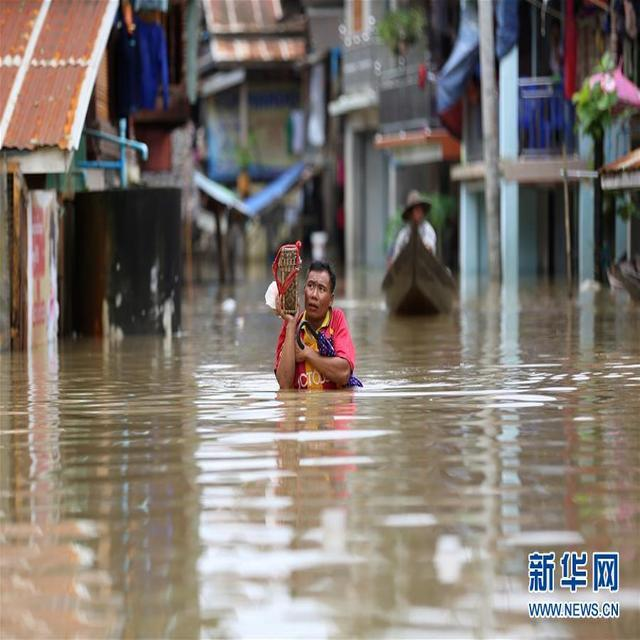Person-RiskLevel3: (255, 234, 370, 405), (385, 190, 448, 296)
